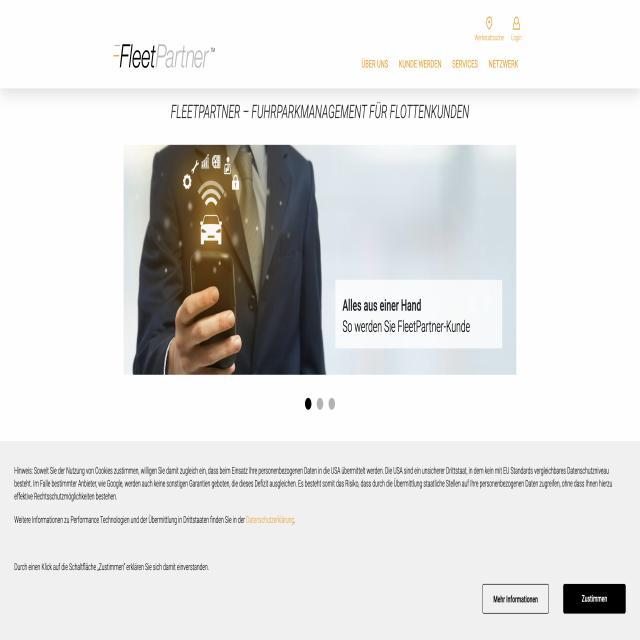Logo: (103, 34, 230, 87)
Navigation: (351, 46, 544, 86)
